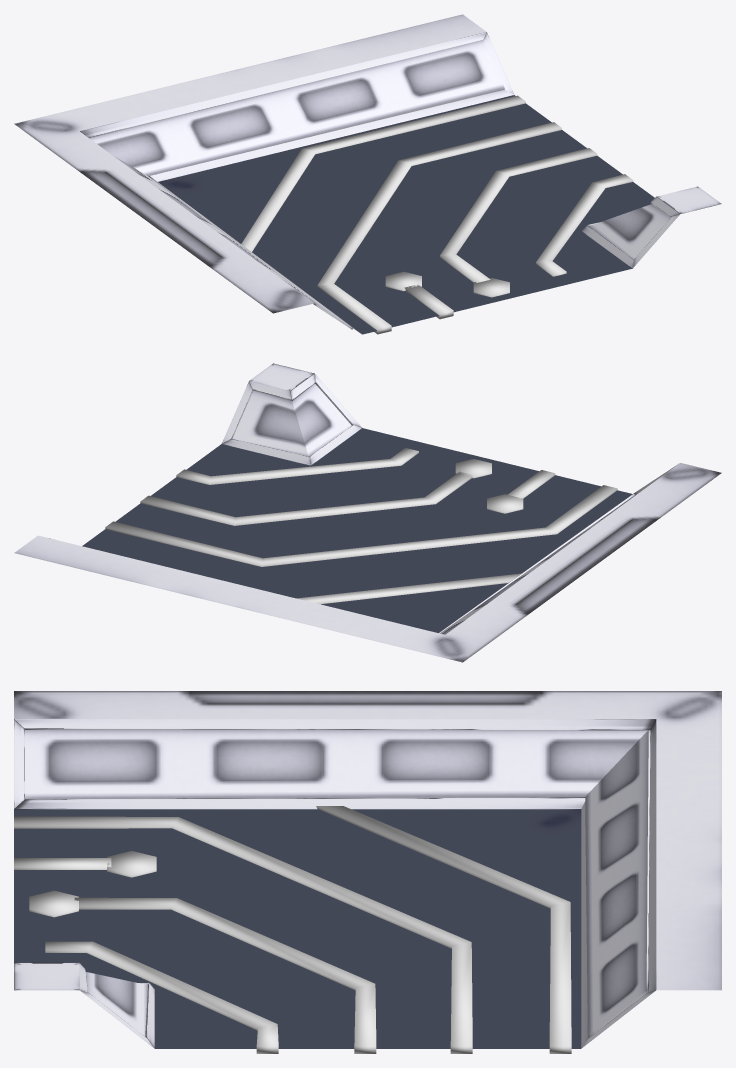
Rendered from Sol Ust Kose.fbx.
The picture shows the model from 3 angles, top to bottom: view 1: azimuth 30°, elevation 25°; view 2: azimuth 150°, elevation 25°; view 3: azimuth 270°, elevation 25°; orthographic projection. The views are drawn at different scales.
Parts seen in each view (by area): view 1: solustkose; view 2: solustkose; view 3: solustkose.
Part boxes in pixels (<box>): solustkose: <box>14,14,721,334</box>; solustkose: <box>14,363,721,662</box>; solustkose: <box>14,691,721,1053</box>.
Size of the model in its own units: 200 by 19.81 by 200.
